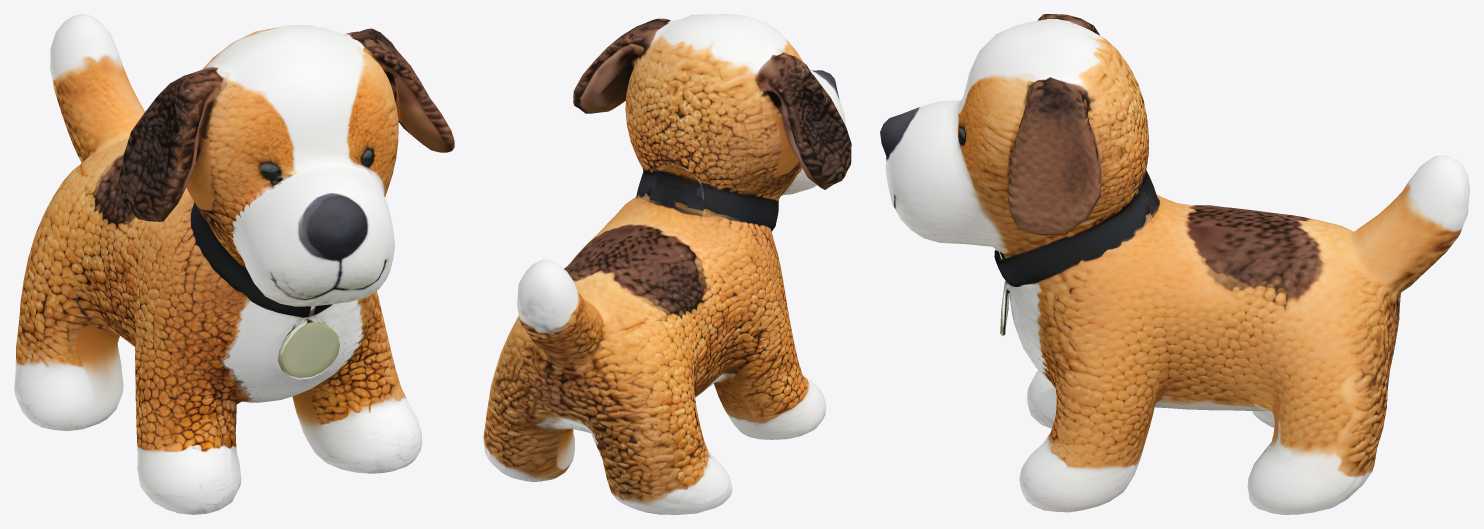
File: wanko_base_basic_shaded.glb
The picture shows the model from 3 angles, left to right: view 1: azimuth 30°, elevation 25°; view 2: azimuth 150°, elevation 25°; view 3: azimuth 270°, elevation 25°; orthographic projection. The views are drawn at different scales.
Parts seen in each view (by area): view 1: model; view 2: model; view 3: model.
Part boxes in pixels (x1=…): model: x1=14, y1=14, x2=454, y2=514; model: x1=483, y1=14, x2=851, y2=514; model: x1=880, y1=14, x2=1469, y2=514.
Bounding box in the file's own units: 1.08 × 1.51 × 1.9.
1 material, 1 textured.
